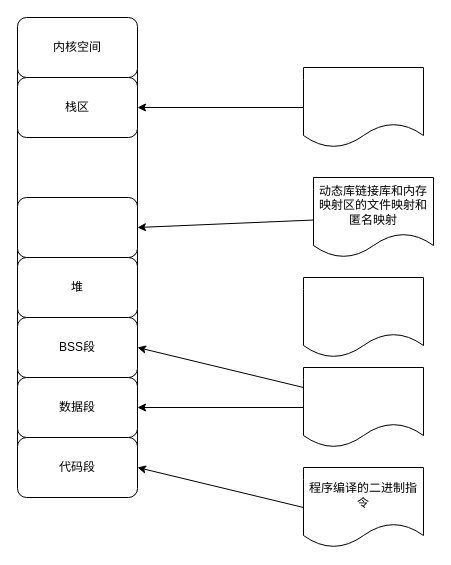
Some shapes in this 451 by 565 pixel diagram are drawn without their labels. Here are the shapes that lost their labels. From the top down, the centre of each, then its label:
At point (363, 107): "程序分配的堆".
At point (77, 227): "文件内存与映射取".
At point (363, 317): "动态分配的堆内存".
At point (363, 407): "全局变量和静态变量".
